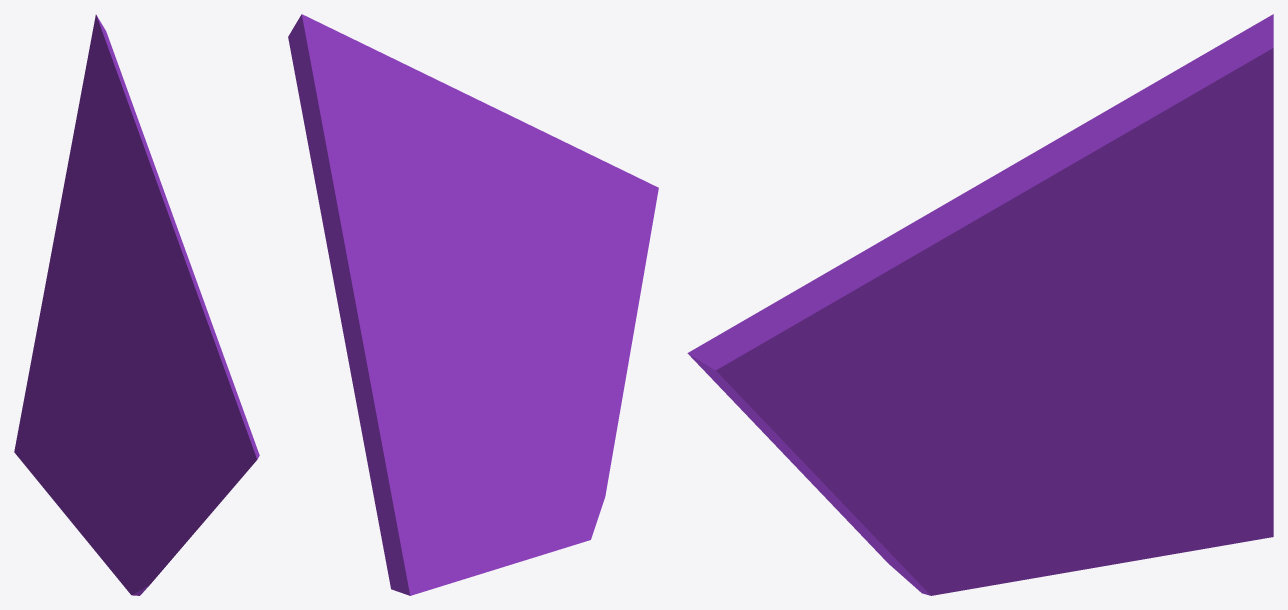
The model's file is Window_3_7_chunks.fbx.
The picture shows the model from 3 angles, left to right: view 1: azimuth 30°, elevation 25°; view 2: azimuth 150°, elevation 25°; view 3: azimuth 270°, elevation 25°; orthographic projection. The views are drawn at different scales.
Visible parts, largest first — view 1: Window_3_7_1, Window_3_7_0, Window_3_7_4, Window_3_7_3, Window_3_7_6, Window_3_7_8, Window_3_7_2, Window_3_7_7, Window_3_7_9; view 2: Window_3_7_0, Window_3_7_1, Window_3_7_3, Window_3_7_4, Window_3_7_6, Window_3_7_8, Window_3_7_2, Window_3_7_7, Window_3_7_9; view 3: Window_3_7_0, Window_3_7_1, Window_3_7_4, Window_3_7_3, Window_3_7_6, Window_3_7_8, Window_3_7_7, Window_3_7_5.
Part boxes in pixels (bbox=[...]): Window_3_7_1: bbox=[98, 406, 259, 595]; Window_3_7_0: bbox=[14, 244, 122, 553]; Window_3_7_4: bbox=[92, 286, 242, 419]; Window_3_7_3: bbox=[53, 29, 119, 328]; Window_3_7_6: bbox=[130, 165, 219, 355]; Window_3_7_8: bbox=[92, 14, 158, 187]; Window_3_7_2: bbox=[53, 242, 132, 435]; Window_3_7_7: bbox=[114, 220, 139, 299]; Window_3_7_9: bbox=[106, 156, 132, 232]; Window_3_7_0: bbox=[340, 316, 539, 595]; Window_3_7_1: bbox=[513, 167, 658, 555]; Window_3_7_3: bbox=[288, 33, 444, 337]; Window_3_7_4: bbox=[435, 147, 615, 360]; Window_3_7_6: bbox=[414, 73, 575, 226]; Window_3_7_8: bbox=[291, 14, 422, 139]; Window_3_7_2: bbox=[358, 317, 515, 394]; Window_3_7_7: bbox=[415, 164, 470, 246]; Window_3_7_9: bbox=[374, 127, 425, 202]; Window_3_7_0: bbox=[1013, 295, 1273, 580]; Window_3_7_1: bbox=[687, 312, 1020, 595]; Window_3_7_4: bbox=[758, 274, 1142, 427]; Window_3_7_3: bbox=[1105, 42, 1273, 360]; Window_3_7_6: bbox=[824, 129, 1102, 288]; Window_3_7_8: bbox=[1075, 14, 1273, 188]; Window_3_7_7: bbox=[1022, 185, 1159, 288]; Window_3_7_5: bbox=[1035, 268, 1107, 307].
Size of the model in its own units: 195 by 857 by 716.
